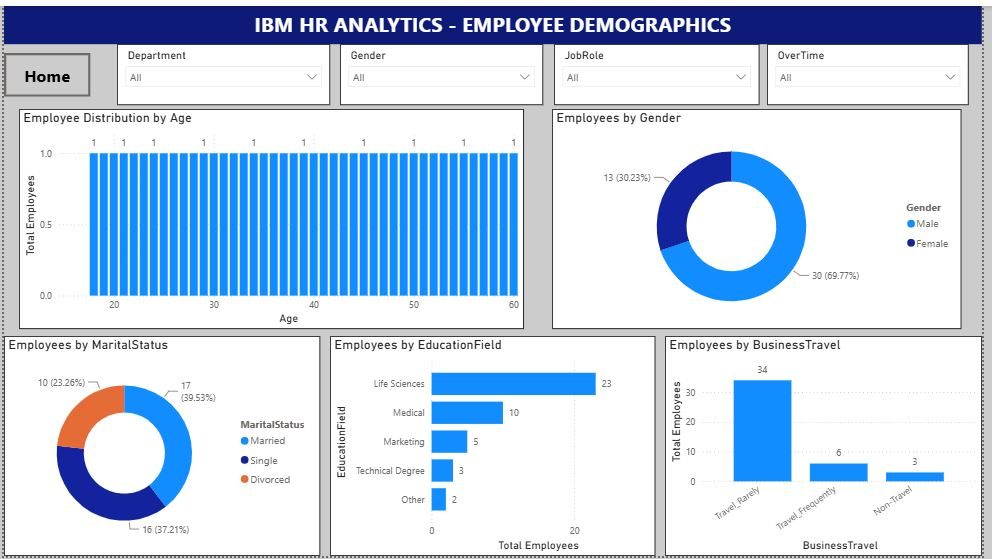

The page's visual inventory and layout, read from the dashboard file:
{"tool":"powerbi","page":{"name":"IBM HR ANALYTICS - EMPLOYEE DEMOGRAPHICS","canvas":[1280,720],"ordinal":1},"visuals":[{"type":"slicer","fields":{"Values":["IBM HR Analytics Employee Attrition & Performance.Department"]},"box":[147.9,49.8,279.2,80],"z":0},{"type":"slicer","fields":{"Values":["IBM HR Analytics Employee Attrition & Performance.Gender"]},"box":[439.2,49.8,265.7,80],"z":1000},{"type":"textbox","box":[0,0,1280,49.7],"z":2000},{"type":"slicer","fields":{"Values":["IBM HR Analytics Employee Attrition & Performance.JobRole"]},"box":[720,49.8,268.7,80],"z":3000},{"type":"slicer","fields":{"Values":["IBM HR Analytics Employee Attrition & Performance.OverTime"]},"box":[999.2,49.8,264.2,80],"z":4000},{"type":"clusteredColumnChart","title":"Employee Distribution by Age","fields":{"Y":["IBM HR Analytics Employee Attrition & Performance.Total Employees"],"Category":["IBM HR Analytics Employee Attrition & Performance.Age"]},"box":[19.6,134.3,661.1,288.3],"z":5000},{"type":"donutChart","title":"Employees by Gender","fields":{"Category":["IBM HR Analytics Employee Attrition & Performance.Gender"],"Y":["IBM HR Analytics Employee Attrition & Performance.Total Employees"]},"box":[717,134.3,535.8,288.3],"z":6000},{"type":"donutChart","title":"Employees by MaritalStatus","fields":{"Category":["IBM HR Analytics Employee Attrition & Performance.MaritalStatus"],"Y":["IBM HR Analytics Employee Attrition & Performance.Total Employees"]},"box":[0,432.2,414.1,287.6],"z":7000},{"type":"clusteredBarChart","title":"Employees by EducationField","fields":{"Category":["IBM HR Analytics Employee Attrition & Performance.EducationField"],"Y":["IBM HR Analytics Employee Attrition & Performance.Total Employees"]},"box":[426.2,432.2,426.2,287.6],"z":8000},{"type":"clusteredColumnChart","title":"Employees by BusinessTravel","fields":{"Category":["IBM HR Analytics Employee Attrition & Performance.BusinessTravel"],"Y":["IBM HR Analytics Employee Attrition & Performance.Total Employees"]},"box":[864.9,431.7,415.1,288.3],"z":9000},{"type":"actionButton","box":[0,61.9,113.2,57.4],"z":10000}]}

Visuals, with their boxes in screenshot pixels (x1, y1, x2, y2), scaled from the page's 1280x720 canvas onto the 992x559 screenshot:
slicer - IBM HR Analytics Employee Attrition & Performance.Department: [left=115, top=39, right=331, bottom=101]
slicer - IBM HR Analytics Employee Attrition & Performance.Gender: [left=340, top=39, right=546, bottom=101]
textbox: [left=0, top=0, right=991, bottom=39]
slicer - IBM HR Analytics Employee Attrition & Performance.JobRole: [left=558, top=39, right=766, bottom=101]
slicer - IBM HR Analytics Employee Attrition & Performance.OverTime: [left=774, top=39, right=979, bottom=101]
"Employee Distribution by Age" clusteredColumnChart: [left=15, top=104, right=528, bottom=328]
"Employees by Gender" donutChart: [left=556, top=104, right=971, bottom=328]
"Employees by MaritalStatus" donutChart: [left=0, top=336, right=321, bottom=558]
"Employees by EducationField" clusteredBarChart: [left=330, top=336, right=661, bottom=558]
"Employees by BusinessTravel" clusteredColumnChart: [left=670, top=335, right=991, bottom=558]
actionButton: [left=0, top=48, right=88, bottom=93]
